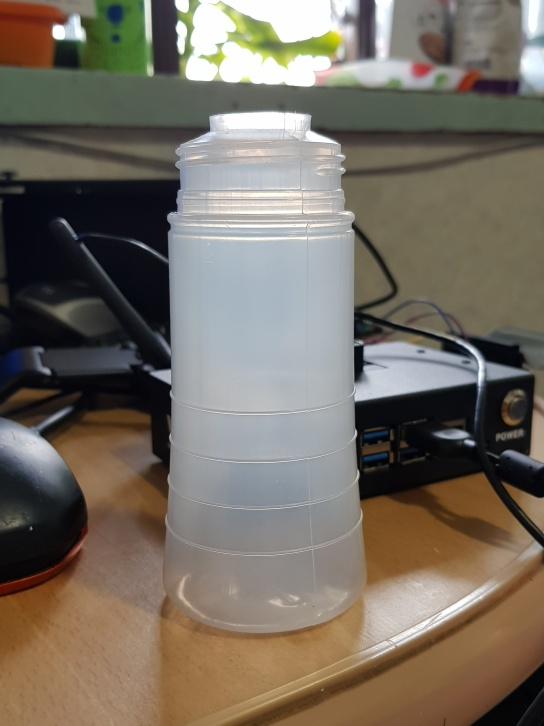Plastic: (160, 110, 372, 642)
